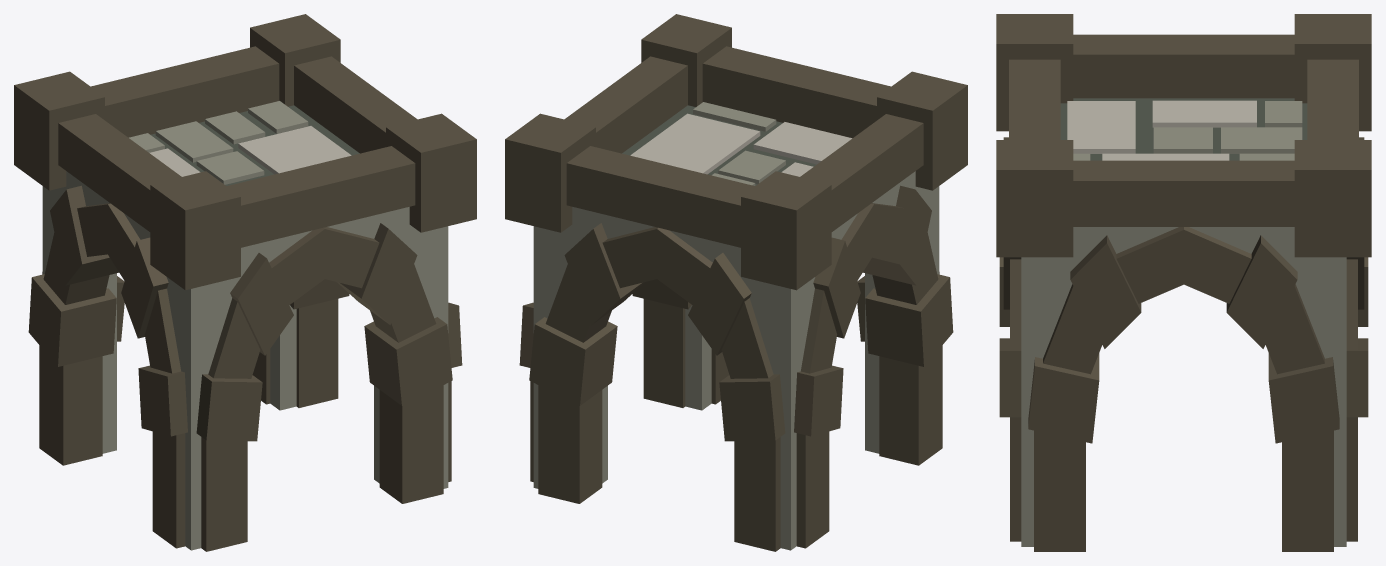
Rendered from Single.fbx.
3 views of the same model, side by side, from view 1: azimuth 30°, elevation 25°; view 2: azimuth 150°, elevation 25°; view 3: azimuth 270°, elevation 25° (orthographic). The views are drawn at different scales.
Visible parts, largest first — view 1: Stone Bridge - Single; view 2: Stone Bridge - Single; view 3: Stone Bridge - Single.
Boxes of the visible parts, <box> form: Stone Bridge - Single: <box>14,14,476,551</box>; Stone Bridge - Single: <box>505,14,967,551</box>; Stone Bridge - Single: <box>996,14,1371,551</box>.
Bounding box in the file's own units: 68.03 × 78.64 × 69.17.
